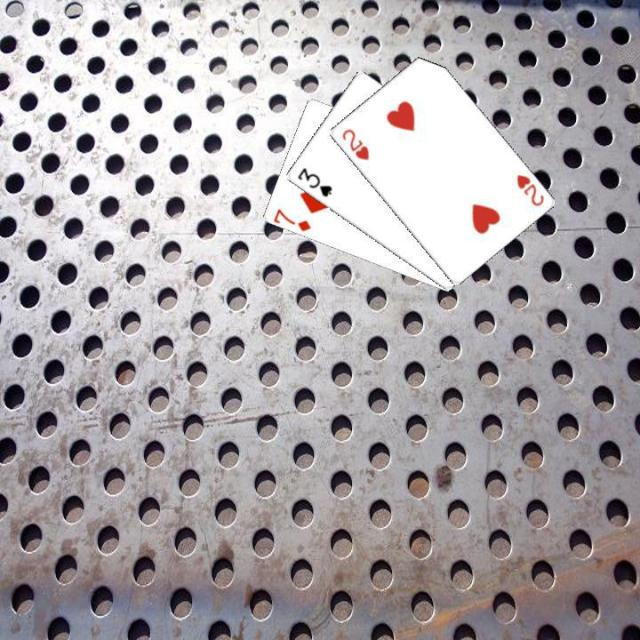2H: (512, 170, 546, 208), (338, 124, 370, 162)
3S: (294, 164, 334, 199)
7D: (269, 204, 312, 233)
